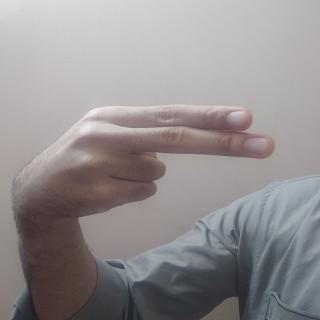AYN: (3, 95, 283, 242)
